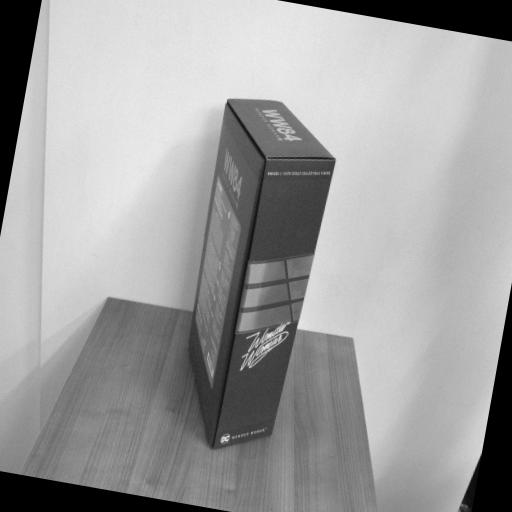WonderWoman: (164, 88, 346, 464)
